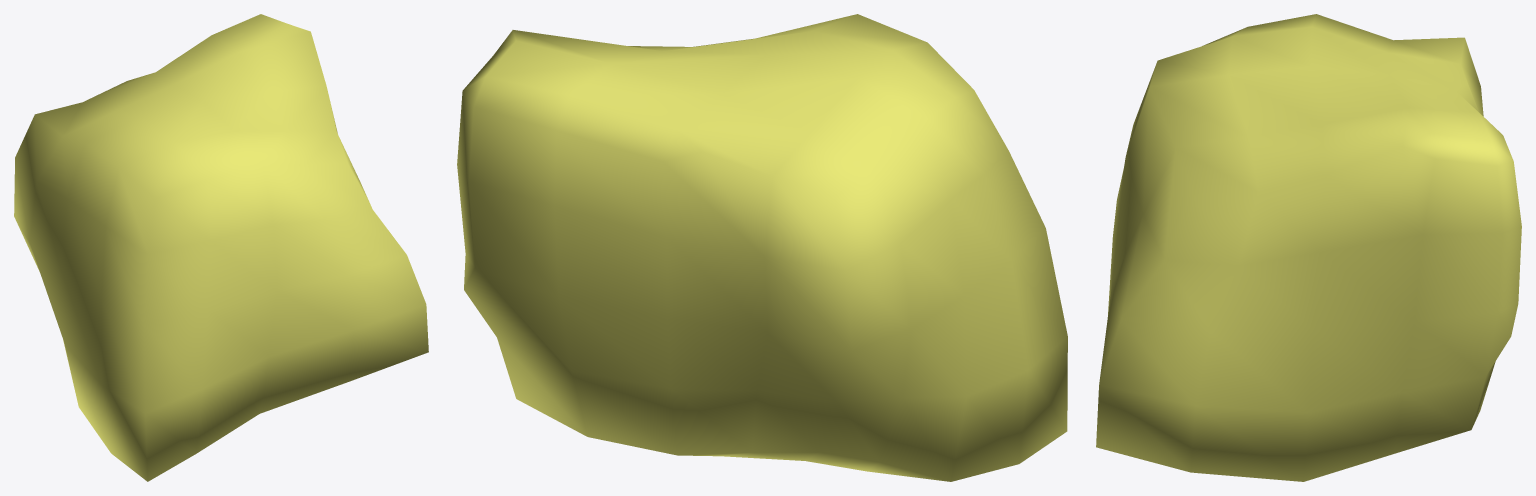
Rendered from Electric.Piece.03.fbx.
3 renders of one model, left to right at view 1: azimuth 30°, elevation 25°; view 2: azimuth 150°, elevation 25°; view 3: azimuth 270°, elevation 25°, orthographic. The views are drawn at different scales.
Visible parts, largest first — view 1: Elec.Piece.03; view 2: Elec.Piece.03; view 3: Elec.Piece.03.
Boxes of the visible parts, x1,y1,x2,y2 form: Elec.Piece.03: (14,14,428,481); Elec.Piece.03: (457,14,1067,481); Elec.Piece.03: (1096,14,1521,481).
Bounding box in the file's own units: 203 × 202 × 200.
